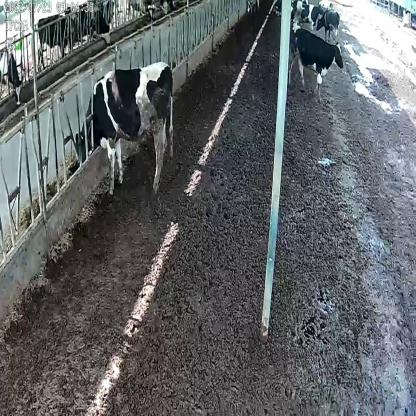cow: (75, 63, 175, 196), (290, 26, 344, 102)
